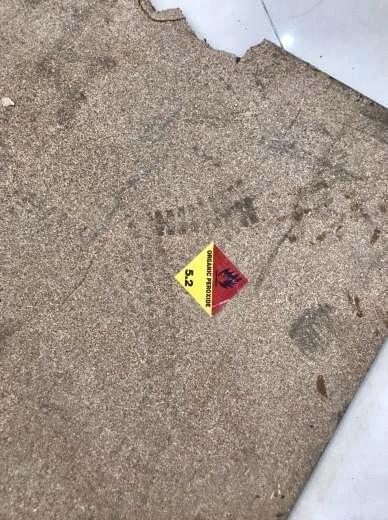organic-peroxide: (172, 243, 247, 323)
